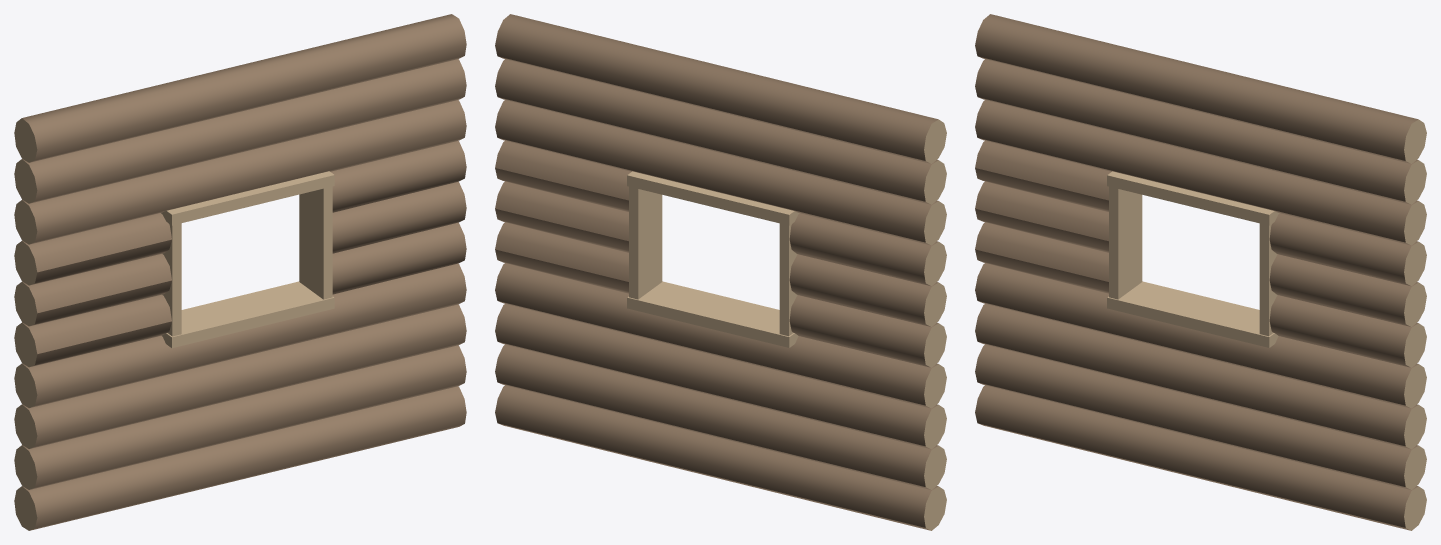
The model's file is log_wall_window.glb.
3 views of the same model, side by side, from view 1: azimuth 30°, elevation 25°; view 2: azimuth 150°, elevation 25°; view 3: azimuth 330°, elevation 25° (orthographic).
Parts seen in each view (by area): view 1: Wall; view 2: Wall; view 3: Wall.
Boxes of the visible parts, left/top/right/bottom form: Wall: left=14, top=14, right=466, bottom=530; Wall: left=495, top=14, right=946, bottom=530; Wall: left=975, top=14, right=1426, bottom=530.
Bounding box in the file's own units: 3.3 × 3 × 0.34.
